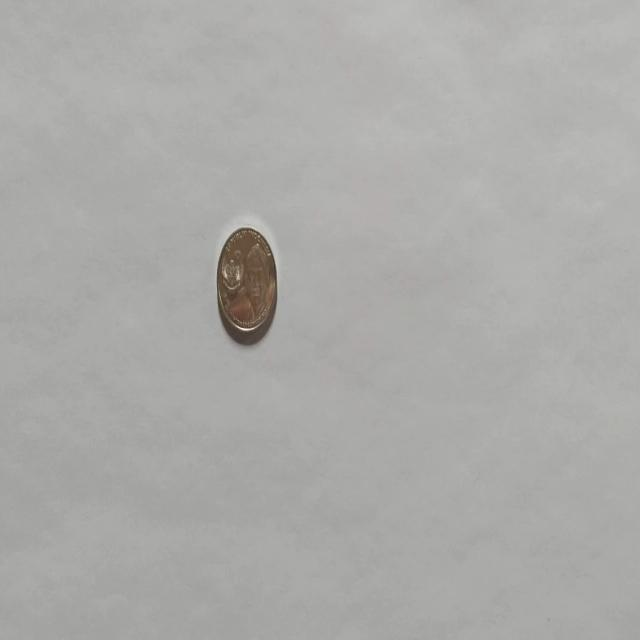dua ratus rupiah: (215, 224, 278, 344)
